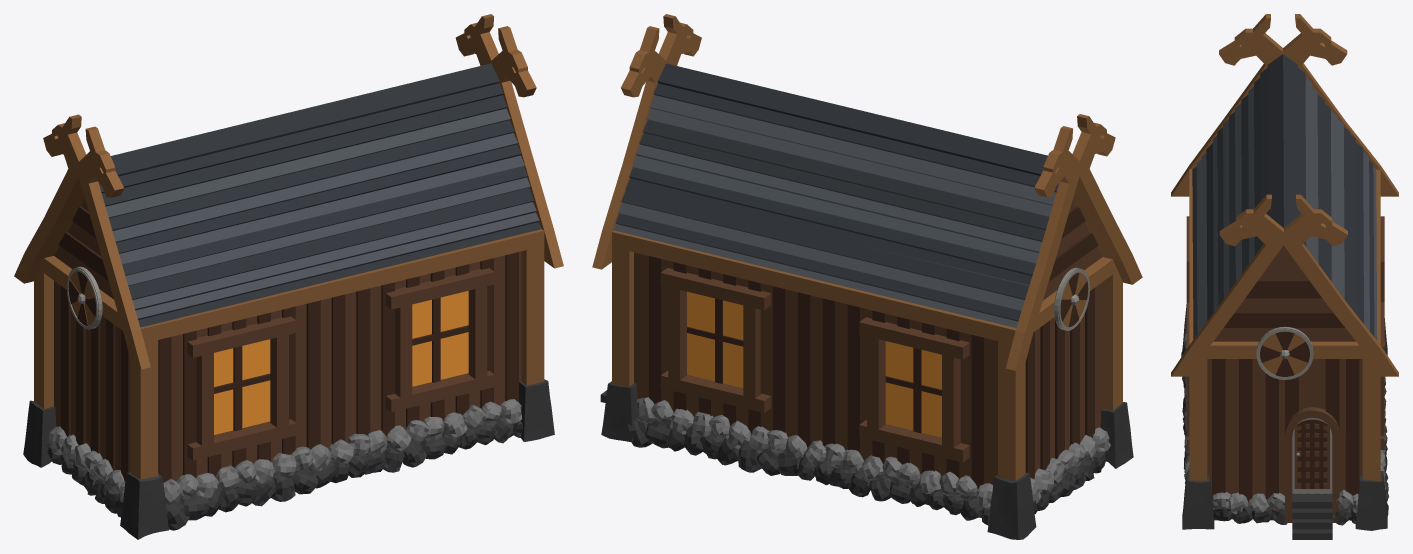
The model's file is Сottage.fbx.
3 renders of one model, left to right at view 1: azimuth 30°, elevation 25°; view 2: azimuth 150°, elevation 25°; view 3: azimuth 270°, elevation 25°, orthographic. The views are drawn at different scales.
Parts seen in each view (by area): view 1: Cube.017; view 2: Cube.017; view 3: Cube.017.
Boxes of the visible parts, x1,y1,x2,y2 form: Cube.017: (14,14,563,539); Cube.017: (592,14,1142,539); Cube.017: (1171,14,1398,539).
Size of the model in its own units: 191 by 154 by 93.6.
